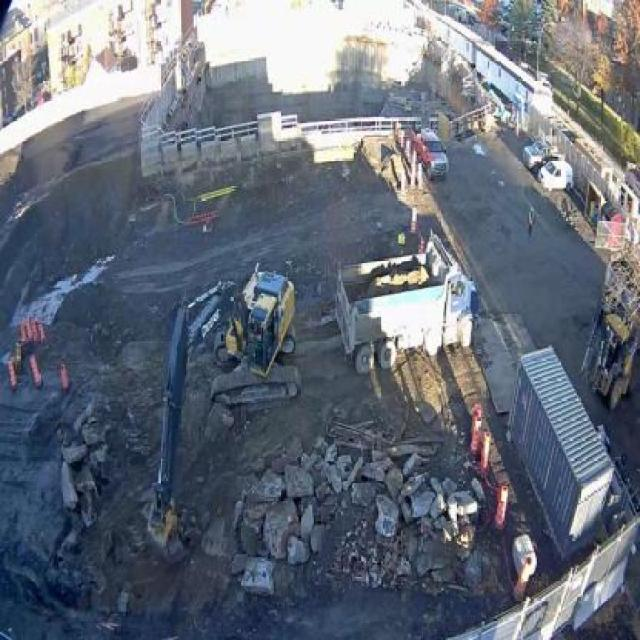dump_truck: (331, 221, 478, 377)
excavator: (145, 258, 304, 568)
